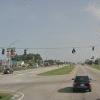Car: (66, 72, 98, 99)
